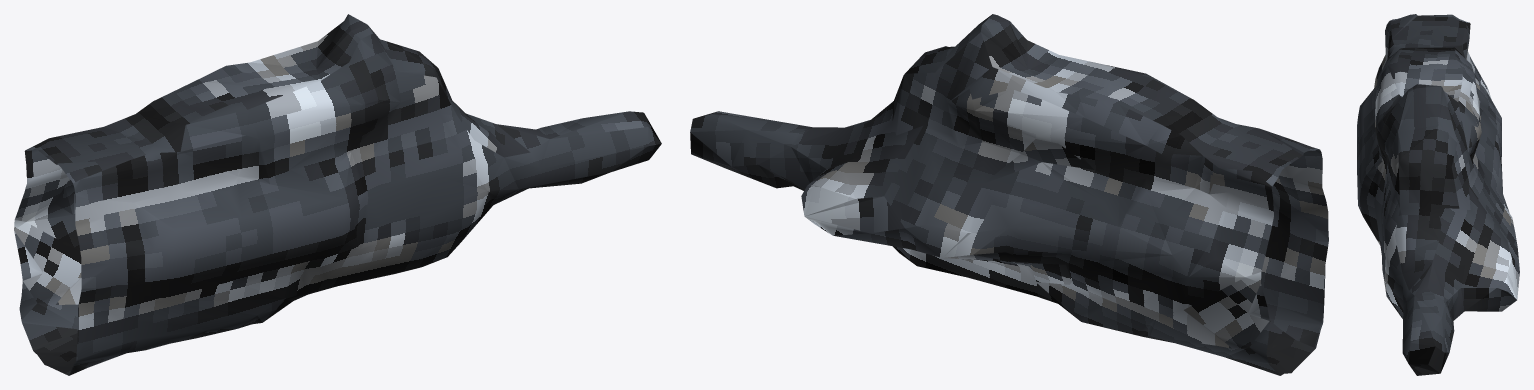
File: guardamanos_canon.glb
The picture shows the model from 3 angles, left to right: view 1: azimuth 30°, elevation 25°; view 2: azimuth 150°, elevation 25°; view 3: azimuth 270°, elevation 25°; orthographic projection. The views are drawn at different scales.
Parts seen in each view (by area): view 1: geometry_0; view 2: geometry_0; view 3: geometry_0.
Part boxes in pixels (x1,y1,x2,y2): geometry_0: (14, 14, 661, 375); geometry_0: (690, 14, 1328, 375); geometry_0: (1357, 14, 1519, 375).
Bounding box in the file's own units: 0.4037 × 0.1752 × 0.1122.
Materials: 1 (1 with a texture image).
